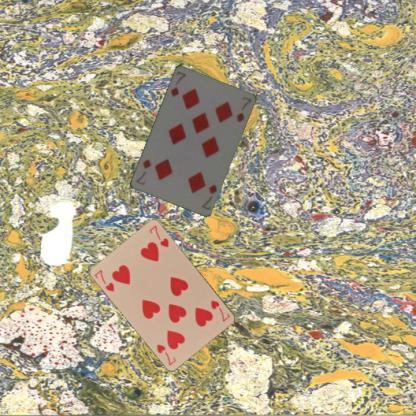7d: (199, 181, 218, 211), (168, 69, 187, 98)
7h: (92, 267, 115, 293), (209, 298, 231, 323)
